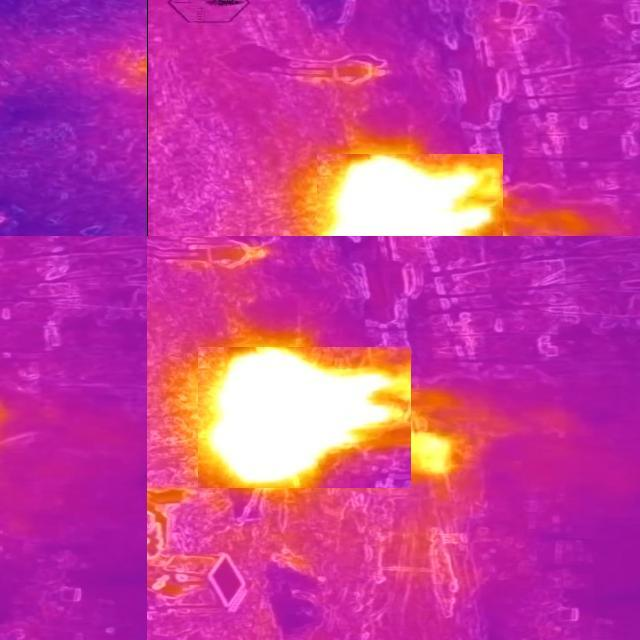fire: (198, 348, 411, 489), (317, 155, 503, 237)
